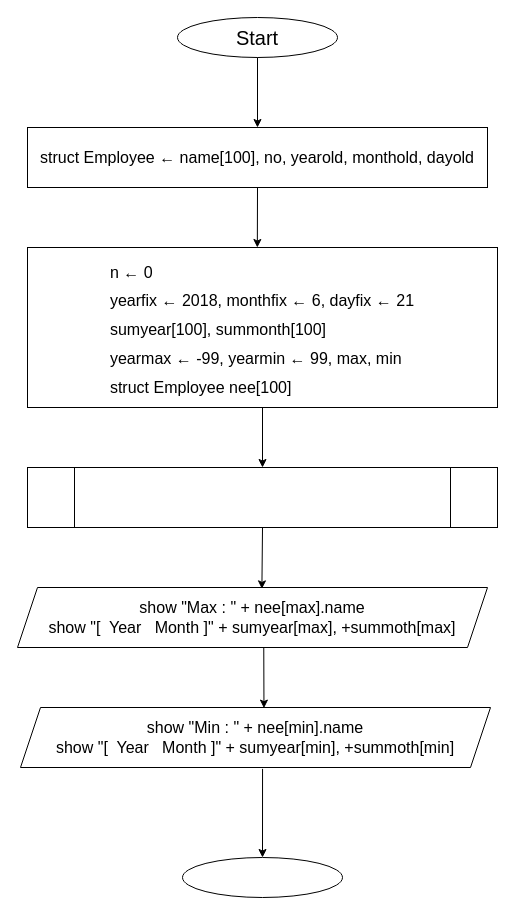
Image size: 515x915. Some labels were removed from this diagram. The centre of each missing label's shape, as x and y in pixels:
Scan_and_Showdata: point (262, 497)
Stop: point (262, 877)
